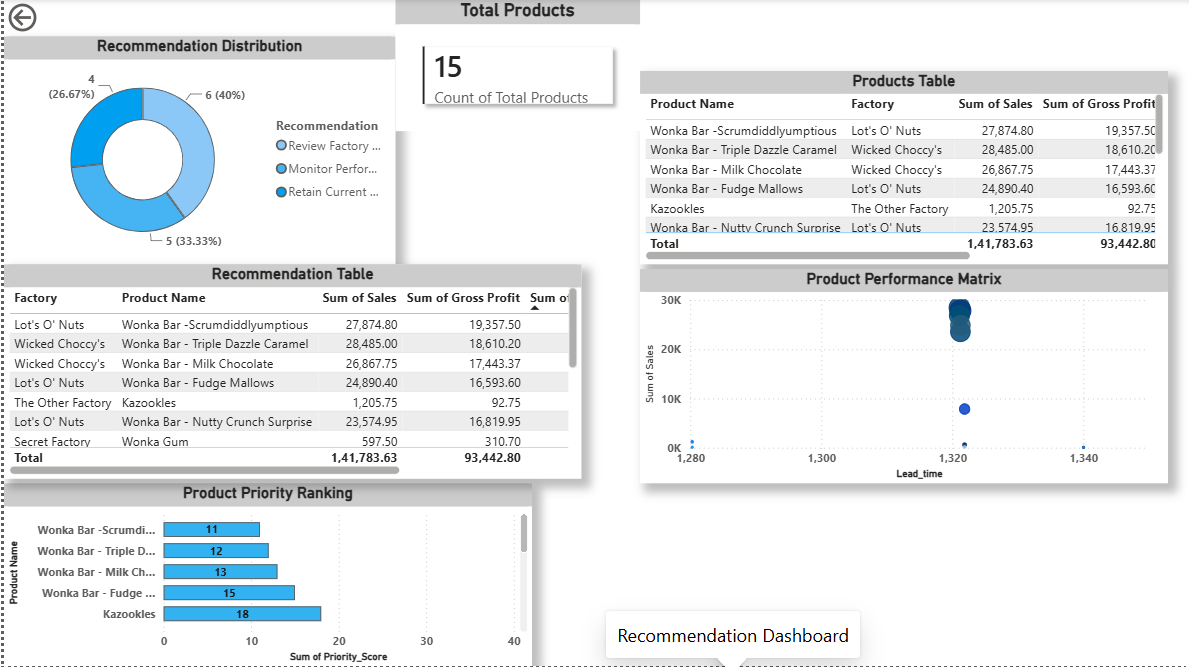

What the dashboard file says about the page in this screenshot:
{"tool":"powerbi","page":{"name":"Recommendation Dashboard","canvas":[1280,720],"ordinal":3},"visuals":[{"type":"donutChart","title":"Recommendation Distribution","fields":{"Category":["Factory_Recommendations.Recommendation"],"Y":["CountNonNull(Factory_Recommendations.Product Name)"]},"box":[0,40.5,422.6,246.1],"z":0},{"type":"tableEx","title":"Products Table","fields":{"Values":["Factory_Recommendations.Product Name","Factory_Recommendations.Factory","Sum(Factory_Recommendations.Sales)","Sum(Factory_Recommendations.Gross Profit)","Sum(Factory_Recommendations.Priority_Score)","Factory_Recommendations.Recommendation"]},"box":[686.6,77.7,570,208.9],"z":1000},{"type":"actionButton","box":[0,0,100,40],"z":2000},{"type":"clusteredBarChart","title":"Product Priority Ranking","fields":{"Category":["Factory_Recommendations.Product Name"],"Y":["Sum(Factory_Recommendations.Priority_Score)"]},"box":[0,523,570,197.5],"z":3000},{"type":"scatterChart","title":"Product Performance Matrix","fields":{"X":["Factory_Summary.Lead_time"],"Y":["Sum(Factory_Recommendations.Sales)"],"Size":["Sum(Factory_Recommendations.Gross Profit)"],"Series":["Factory_Recommendations.Product Name"]},"box":[686.6,291.5,570,231.5],"z":4000},{"type":"tableEx","title":"Recommendation Table","fields":{"Values":["Factory_Recommendations.Factory","Factory_Recommendations.Product Name","Sum(Factory_Recommendations.Sales)","Sum(Factory_Recommendations.Gross Profit)","Sum(Factory_Recommendations.Priority_Score)","Factory_Recommendations.Recommendation"]},"box":[0,286.6,623.4,231.5],"z":5000},{"type":"cardVisual","title":"Total Products","fields":{"Data":["CountNonNull(Factory_Recommendations.Total Products)"]},"box":[422.6,0,263.9,142.5],"z":7000}]}

Visuals, with their boxes in screenshot pixels (x1, y1, x2, y2), scaled from the page's 1280x720 canvas onto the 1189x667 screenshot:
"Recommendation Distribution" donutChart: left=0, top=38, right=393, bottom=266
"Products Table" tableEx: left=638, top=72, right=1167, bottom=266
actionButton: left=0, top=0, right=93, bottom=37
"Product Priority Ranking" clusteredBarChart: left=0, top=485, right=529, bottom=666
"Product Performance Matrix" scatterChart: left=638, top=270, right=1167, bottom=485
"Recommendation Table" tableEx: left=0, top=266, right=579, bottom=480
"Total Products" cardVisual: left=393, top=0, right=638, bottom=132
